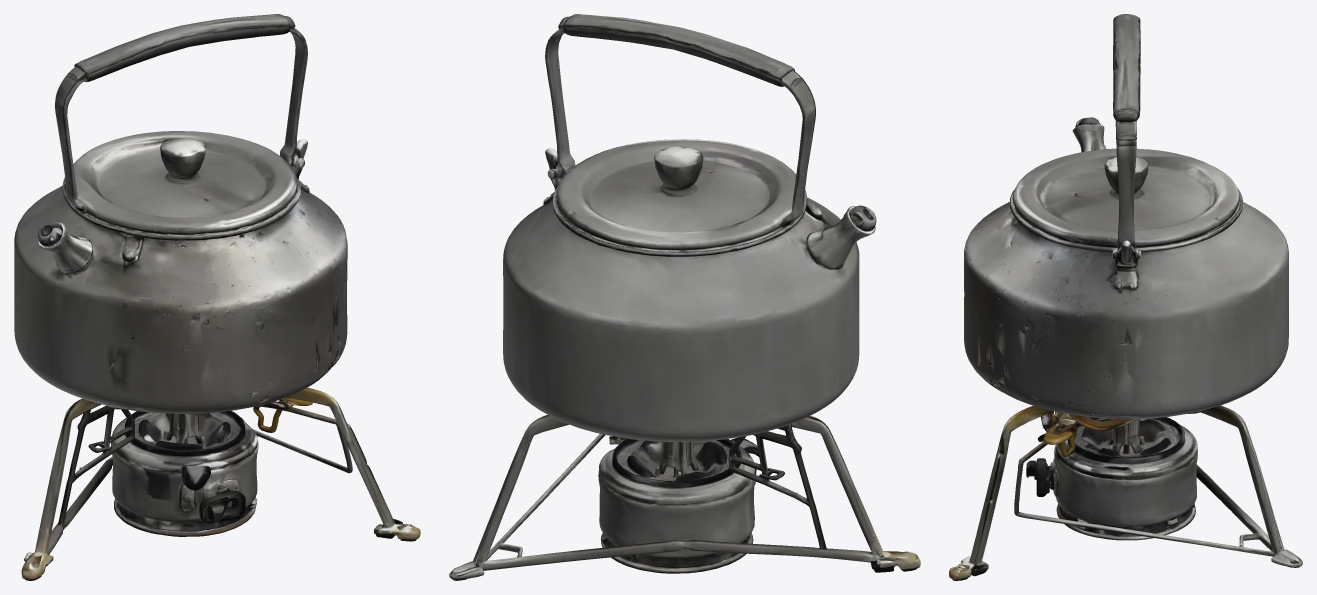
Rendered from camp-stove-kettle.glb.
3 views of the same model, side by side, from view 1: azimuth 30°, elevation 25°; view 2: azimuth 150°, elevation 25°; view 3: azimuth 270°, elevation 25° (orthographic). The views are drawn at different scales.
Parts seen in each view (by area): view 1: node_b5905847-a0f9-44bf-ae99-a86d76b6280d; view 2: node_b5905847-a0f9-44bf-ae99-a86d76b6280d; view 3: node_b5905847-a0f9-44bf-ae99-a86d76b6280d.
Part boxes in pixels (x1=…): node_b5905847-a0f9-44bf-ae99-a86d76b6280d: x1=14, y1=14, x2=420, y2=580; node_b5905847-a0f9-44bf-ae99-a86d76b6280d: x1=449, y1=14, x2=920, y2=580; node_b5905847-a0f9-44bf-ae99-a86d76b6280d: x1=949, y1=14, x2=1302, y2=580.
Bounding box in the file's own units: 0.7276 × 0.9791 × 0.6767.
Materials: 1 (1 with a texture image).
